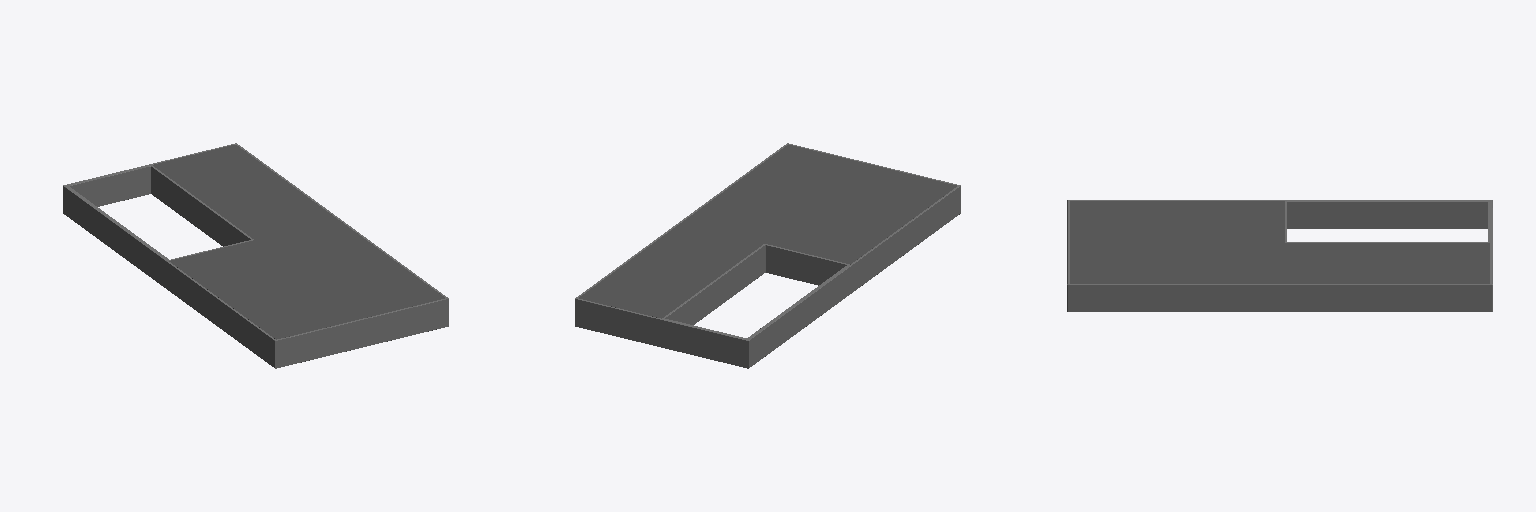
Rendered from Ligne_Roset_Loreta_mat(2).obj.
3 renders of one model, left to right at view 1: azimuth 30°, elevation 25°; view 2: azimuth 150°, elevation 25°; view 3: azimuth 270°, elevation 25°, orthographic.
Visible parts, largest first — view 1: Ligne_Roset_Loreta_mat2; view 2: Ligne_Roset_Loreta_mat2; view 3: Ligne_Roset_Loreta_mat2.
Part boxes in pixels (bbox=[...]): Ligne_Roset_Loreta_mat2: bbox=[63, 143, 448, 368]; Ligne_Roset_Loreta_mat2: bbox=[575, 143, 960, 368]; Ligne_Roset_Loreta_mat2: bbox=[1067, 200, 1492, 311].
Size of the model in its own units: 85 by 13 by 180.